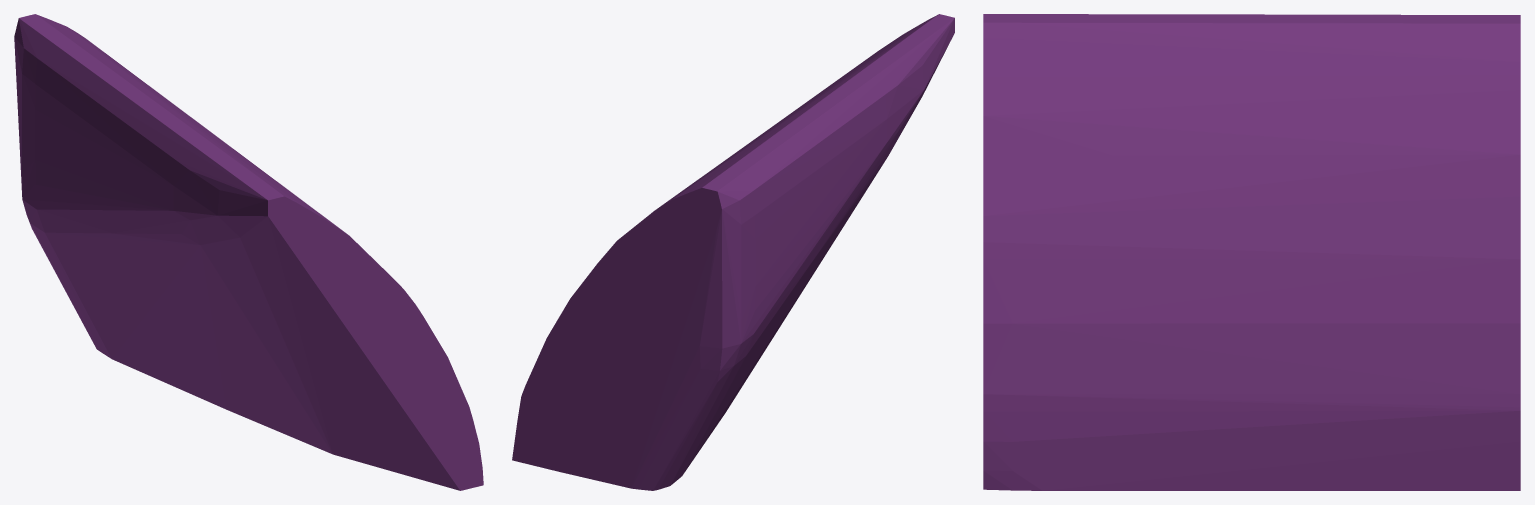
File: right-shoulder-pitch-0_part_163.obj
3 renders of one model, left to right at view 1: azimuth 30°, elevation 25°; view 2: azimuth 150°, elevation 25°; view 3: azimuth 270°, elevation 25°, orthographic. The views are drawn at different scales.
Bounding box in the file's own units: 0.0182 × 0.0257 × 0.0344.
